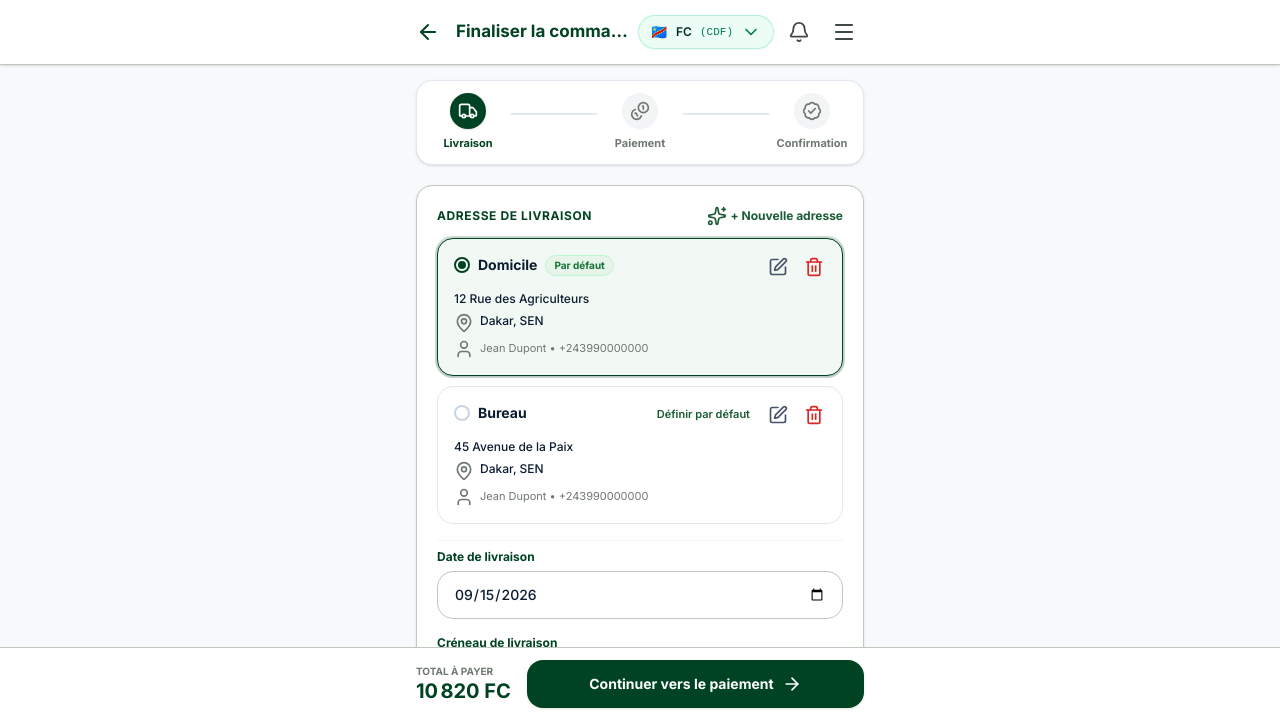
Test case: CheckoutPage (/checkout) › completes the self-hosted payment flow and displays the confirmation screen
# Move from Step 1 to Step 2
Click the button with test id "continue-button": click(695, 684) [527,660,864,708]
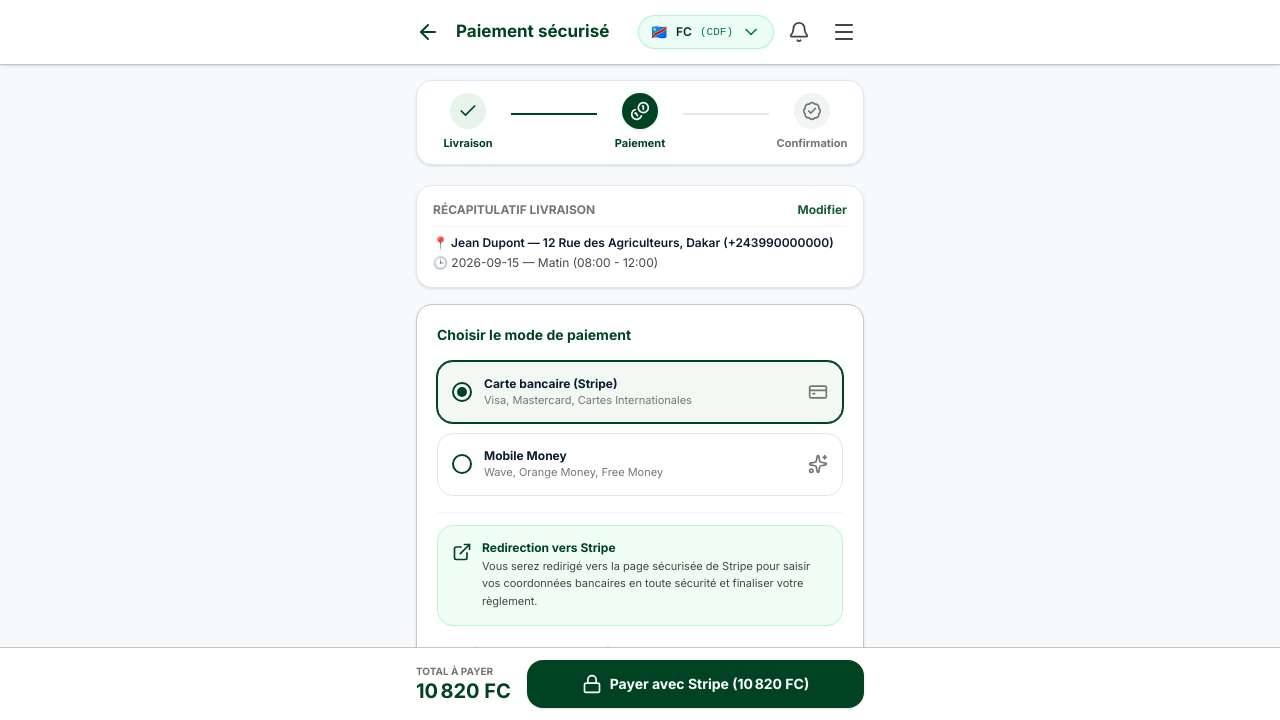
expect the heading "Choisir le mode de paiement" is shown: met, box [437,326,631,342]
expect the text "Carte bancaire (Stripe)" is shown: met, box [484,376,618,390]
expect the text "Mobile Money" is shown: met, box [484,448,567,463]
Click the button with test id "pay-button": click(695, 684) [527,660,864,708]
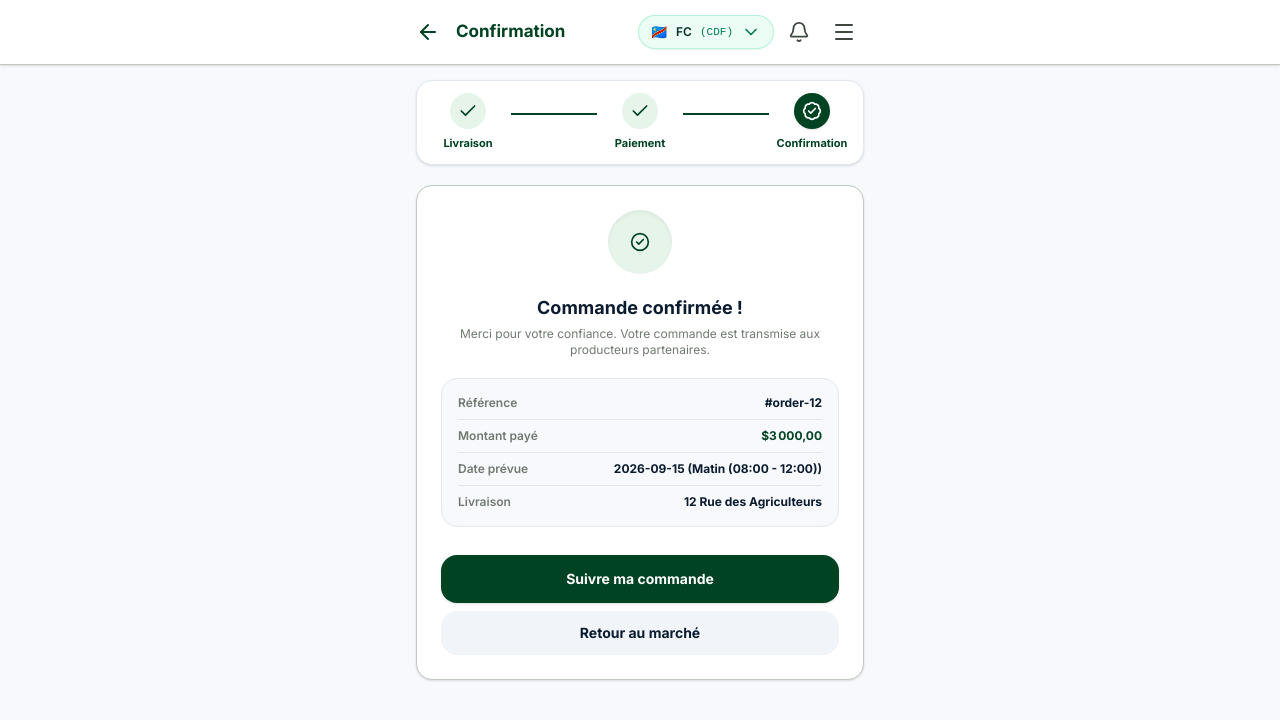
expect the heading "Commande confirmée !" is shown: met, box [537,296,743,318]
expect the text "#order-12" is shown: met, box [765,394,822,410]
expect the link "Suivre ma commande" is shown: met, box [441,554,839,602]
